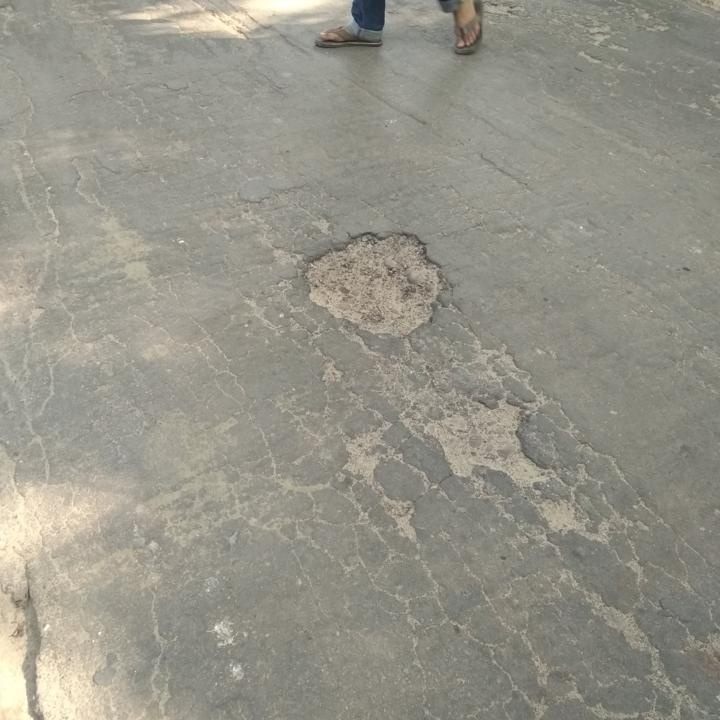pothole: (303, 225, 451, 338), (423, 394, 559, 486)
